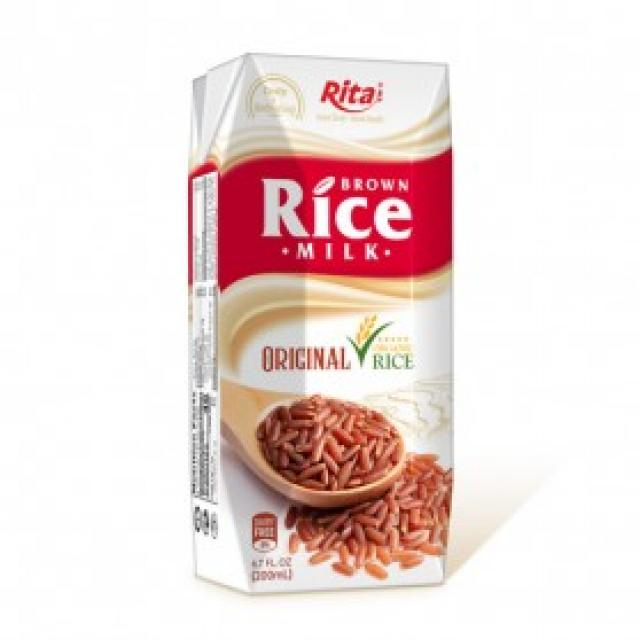non_white_jug: (166, 40, 458, 591)
